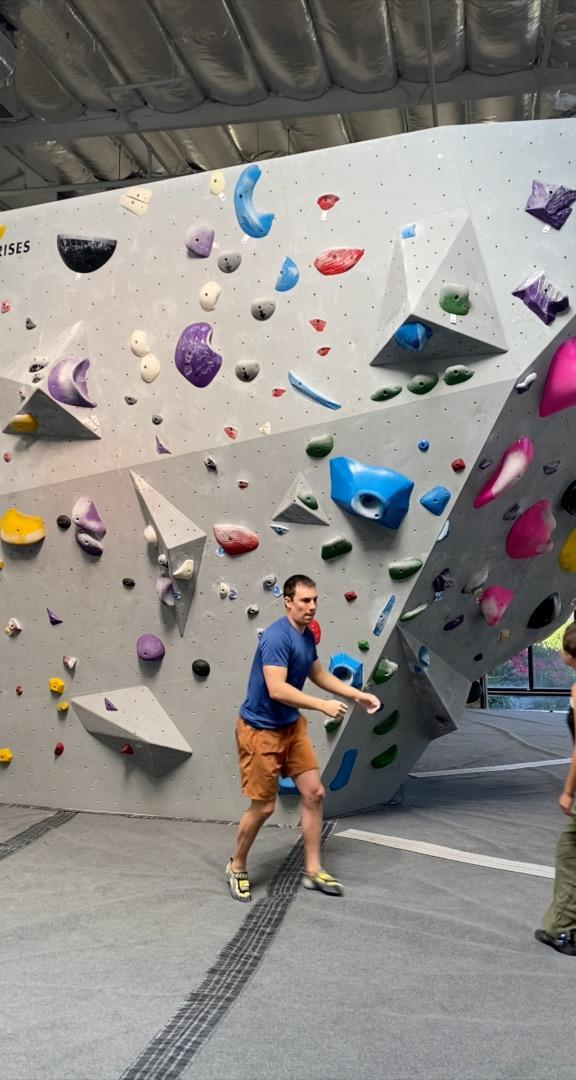holds: (328, 455, 416, 531), (473, 435, 535, 510), (510, 269, 570, 327), (173, 321, 224, 389), (538, 328, 575, 420), (233, 162, 276, 239), (505, 497, 557, 560), (522, 177, 575, 233), (55, 232, 119, 275), (47, 356, 98, 408), (286, 368, 343, 411), (0, 506, 48, 548), (312, 245, 366, 277), (478, 586, 518, 628), (272, 758, 316, 796), (327, 652, 364, 697), (212, 523, 260, 557), (70, 495, 108, 537), (526, 591, 564, 630), (327, 746, 359, 792), (393, 319, 434, 354), (184, 222, 216, 259), (438, 283, 471, 317), (371, 593, 396, 637), (419, 484, 452, 517), (460, 563, 492, 595), (274, 254, 300, 293), (74, 527, 104, 557), (136, 632, 166, 662), (320, 535, 354, 561), (388, 556, 424, 580), (197, 280, 223, 313), (155, 569, 177, 608), (372, 655, 400, 685), (406, 371, 439, 396), (372, 708, 401, 736), (441, 364, 477, 386), (370, 742, 399, 769), (305, 433, 335, 459), (399, 599, 431, 623), (118, 194, 149, 218), (139, 352, 161, 384), (129, 328, 151, 359), (431, 567, 457, 593), (559, 476, 575, 518), (250, 298, 277, 322), (234, 359, 261, 383), (369, 383, 403, 402), (9, 414, 40, 434), (217, 251, 243, 274), (322, 709, 345, 735), (125, 185, 154, 205), (515, 371, 538, 395), (172, 558, 196, 580), (208, 170, 226, 197), (316, 192, 341, 211), (296, 491, 319, 511), (502, 502, 525, 522), (442, 613, 466, 632), (466, 679, 484, 704), (27, 354, 50, 373), (142, 524, 159, 549), (45, 606, 64, 627), (190, 658, 211, 677), (155, 433, 173, 455), (435, 519, 451, 543), (48, 676, 67, 696), (542, 457, 563, 475), (418, 644, 431, 673), (400, 223, 417, 241), (308, 317, 327, 333), (62, 653, 78, 671), (269, 524, 291, 537), (222, 425, 239, 441), (450, 456, 466, 473), (262, 572, 277, 590), (0, 747, 14, 766), (56, 514, 72, 530), (203, 455, 218, 472), (0, 297, 13, 316), (8, 616, 23, 632), (103, 696, 118, 712), (434, 714, 451, 728), (497, 628, 510, 645), (258, 421, 272, 436), (157, 552, 170, 568), (219, 581, 229, 601), (0, 222, 6, 255), (84, 417, 98, 431), (25, 316, 38, 331), (31, 371, 46, 384), (417, 438, 430, 453), (478, 458, 493, 471), (344, 590, 359, 603), (316, 345, 332, 357), (271, 386, 287, 398), (56, 700, 70, 713), (120, 742, 134, 755), (124, 394, 139, 406), (246, 604, 261, 616), (356, 639, 371, 651), (256, 626, 267, 642), (151, 413, 164, 426), (88, 414, 101, 427), (2, 450, 14, 464), (122, 576, 136, 588), (54, 741, 65, 756), (18, 384, 28, 400), (236, 478, 250, 489), (0, 548, 6, 572), (412, 664, 424, 675), (374, 702, 385, 713), (15, 684, 24, 697), (473, 652, 484, 662), (173, 590, 183, 600)
